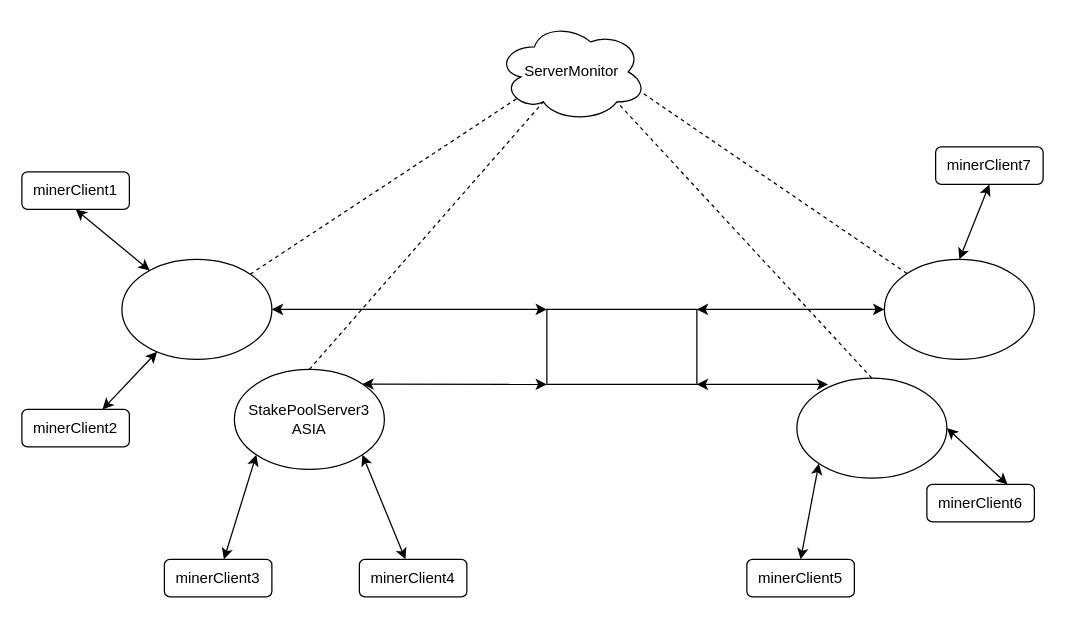
The diagram is 1065 pixels wide and 619 high, and some of its shapes have lost their labels. The centre of each missing label's shape, as x and y in pixels:
ETH 2.0 Mainnet: the point at 621,346
StakePoolServer1 US: the point at 196,308
StakePoolServer2 UK: the point at 958,308
StakePoolServer4 Others: the point at 871,427
